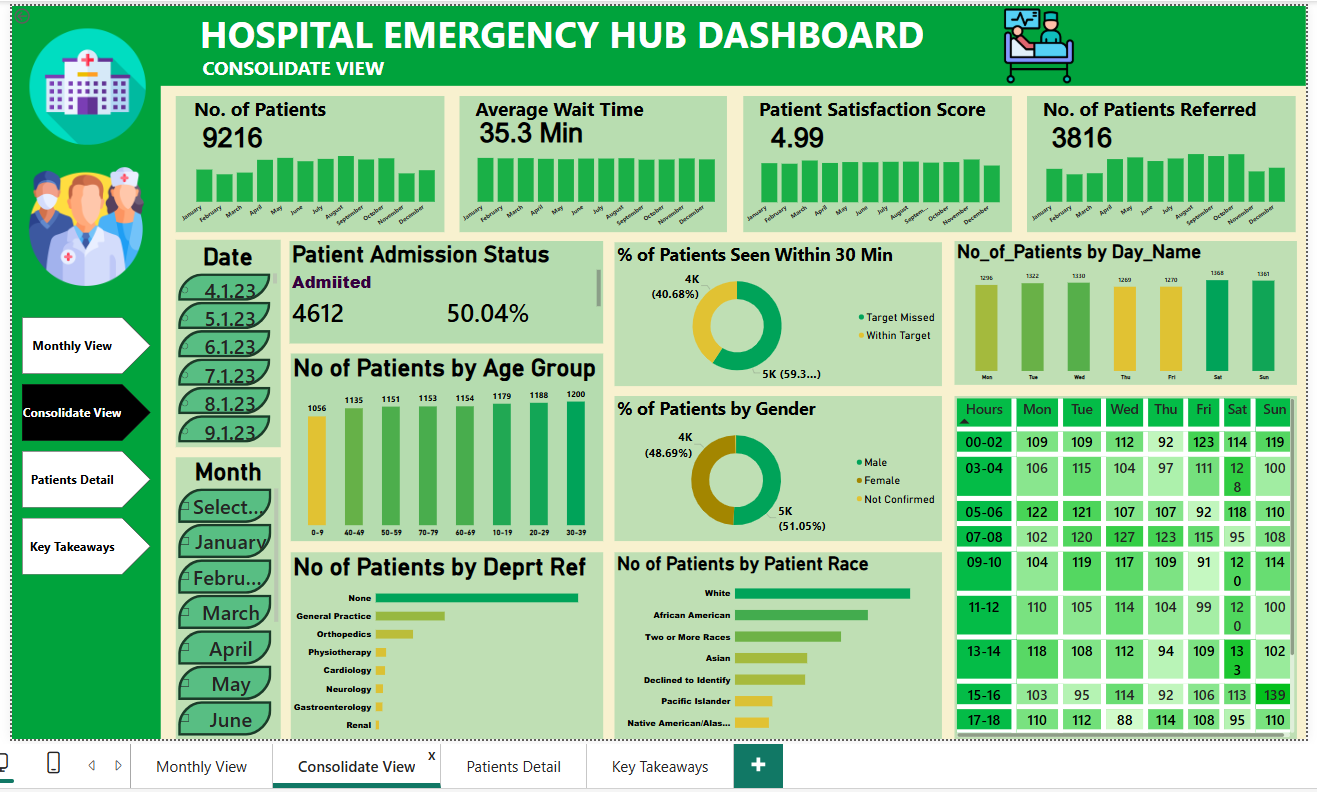

What the dashboard file says about the page in this screenshot:
{"tool":"powerbi","page":{"name":"Consolidate View","canvas":[2555,1448],"ordinal":1},"visuals":[{"type":"multiRowCard","title":"Patient Admission Status","fields":{"Values":["Hospitals Data.Admission_Status","Hospitals Data.No_of_Patients","Divide(Hospitals Data.No_of_Patients, ScopedEval(Hospitals Data.No_of_Patients, []))"]},"box":[547.8,463.9,619.4,202.3],"z":0},{"type":"shape","box":[0,0,293.6,1448.5],"z":1000},{"type":"shape","box":[0,0,2554,157.9],"z":2000},{"type":"textbox","box":[310.9,0,1549.7,118.4],"z":3000},{"type":"shape","box":[323.3,177.7,530.5,269],"z":4000},{"type":"card","fields":{"Values":["Hospitals Data.No_of_Patients"]},"box":[323.3,222.1,224.6,66.6],"z":5000},{"type":"listSlicer","fields":{"Values":["Date_Table.Date"]},"box":[323.3,461.4,207.3,409.6],"z":6000},{"type":"textbox","box":[328.2,177.7,370.1,69.1],"z":7000},{"type":"columnChart","fields":{"Y":["Hospitals Data.No_of_Patients"],"Category":["Date_Table.Month"]},"box":[328.2,276.4,528.1,170.3],"z":8000},{"type":"shape","box":[883.4,177.7,528.1,269],"z":9000},{"type":"textbox","box":[883.4,177.7,370.1,69.1],"z":10000},{"type":"columnChart","fields":{"Category":["Date_Table.Month"],"Y":["Avg(Hospitals Data.Patient_Waittime)"]},"box":[883.4,276.4,525.6,170.3],"z":11000},{"type":"shape","box":[1443.6,177.7,530.5,269],"z":12000},{"type":"textbox","box":[1443.6,177.7,530.5,69.1],"z":13000},{"type":"columnChart","fields":{"Y":["Hospitals Data.Satisfication_Score"],"Category":["Date_Table.Month"]},"box":[1443.6,278.8,528.1,167.8],"z":14000},{"type":"shape","box":[2003.7,177.7,530.5,269],"z":15000},{"type":"textbox","box":[2003.7,177.7,530.5,69.1],"z":16000},{"type":"columnChart","fields":{"Y":["Hospitals Data.No_of_Patience_referred"],"Category":["Date_Table.Month"]},"box":[2006.2,276.4,528.1,170.3],"z":17000},{"type":"card","fields":{"Values":["Hospitals Data.Aver_wait_time"]},"box":[883.4,214.7,283.8,64.2],"z":18000},{"type":"card","fields":{"Values":["Hospitals Data.Satisfication_Score"]},"box":[1443.4,210,214.7,93],"z":19000},{"type":"card","fields":{"Values":["Hospitals Data.No_of_Patience_referred"]},"box":[2003.7,222.1,217.2,66.6],"z":20000},{"type":"clusteredColumnChart","title":"No of Patients by Age Group","fields":{"Category":["Hospitals Data.Age_Group"],"Y":["Hospitals Data.No_of_Patients"]},"box":[550.3,686,616.9,370.1],"z":21000},{"type":"textbox","box":[355.3,96.2,387.4,61.7],"z":22000},{"type":"actionButton","box":[0,0,100,40],"z":23000},{"type":"clusteredBarChart","title":"No of Patients by Deprt Ref","fields":{"Category":["Hospitals Data.Department_Referral"],"Y":["Hospitals Data.No_of_Patients"]},"box":[550.3,1078.4,616.9,370.1],"z":24000},{"type":"donutChart","title":"% of Patients Seen Within 30 Min","fields":{"Category":["Hospitals Data.Waittime_Status"],"Y":["Hospitals Data.No_of_Patients"]},"box":[1189.4,466.4,646.5,283.8],"z":25000},{"type":"donutChart","title":"% of Patients by Gender","fields":{"Category":["Hospitals Data.Patient_Gender"],"Y":["Hospitals Data.No_of_Patients"]},"box":[1189.4,769.9,646.5,286.2],"z":26000},{"type":"clusteredBarChart","title":"No of Patients by Patient Race","fields":{"Category":["Hospitals Data.Patient_Race"],"Y":["Hospitals Data.No_of_Patients"]},"box":[1189.4,1078.4,646.5,370.1],"z":27000},{"type":"pivotTable","fields":{"Rows":["Hospitals Data.Waittime_Interval"],"Columns":["Date_Table.Day_Name"],"Values":["Hospitals Data.No_of_Patients"]},"box":[1860.6,769.9,676.1,678.6],"z":28000},{"type":"columnChart","fields":{"Category":["Date_Table.Day_Name"],"Y":["Hospitals Data.No_of_Patients"]},"box":[1860.6,463.9,676.1,283.8],"z":29000},{"type":"image","box":[0,39.5,298.6,239.4],"z":30000},{"type":"listSlicer","fields":{"Values":["Date_Table.Month"]},"box":[323.3,890.8,207.3,557.7],"z":31000},{"type":"pageNavigator","box":[19.7,614.4,254.2,510.8],"z":32000},{"type":"image","box":[1887.7,0,278.8,157.9],"z":33000},{"type":"image","box":[0,313.4,293.6,244.3],"z":34000}]}

Visuals, with their boxes on the page's 2555x1448 design canvas (x1, y1, x2, y2). These are canvas units, not pixel positions in the 1317x792 screenshot, which may show the page scaled, cropped or inside an application window:
"Patient Admission Status" multiRowCard: (left=548, top=464, right=1167, bottom=666)
shape: (left=0, top=0, right=294, bottom=1448)
shape: (left=0, top=0, right=2554, bottom=158)
textbox: (left=311, top=0, right=1861, bottom=118)
shape: (left=323, top=178, right=854, bottom=447)
card - Hospitals Data.No_of_Patients: (left=323, top=222, right=548, bottom=289)
listSlicer - Date_Table.Date: (left=323, top=461, right=531, bottom=871)
textbox: (left=328, top=178, right=698, bottom=247)
columnChart - Hospitals Data.No_of_Patients x Date_Table.Month: (left=328, top=276, right=856, bottom=447)
shape: (left=883, top=178, right=1412, bottom=447)
textbox: (left=883, top=178, right=1254, bottom=247)
columnChart - Date_Table.Month x Avg(Hospitals Data.Patient_Waittime): (left=883, top=276, right=1409, bottom=447)
shape: (left=1444, top=178, right=1974, bottom=447)
textbox: (left=1444, top=178, right=1974, bottom=247)
columnChart - Hospitals Data.Satisfication_Score x Date_Table.Month: (left=1444, top=279, right=1972, bottom=447)
shape: (left=2004, top=178, right=2534, bottom=447)
textbox: (left=2004, top=178, right=2534, bottom=247)
columnChart - Hospitals Data.No_of_Patience_referred x Date_Table.Month: (left=2006, top=276, right=2534, bottom=447)
card - Hospitals Data.Aver_wait_time: (left=883, top=215, right=1167, bottom=279)
card - Hospitals Data.Satisfication_Score: (left=1443, top=210, right=1658, bottom=303)
card - Hospitals Data.No_of_Patience_referred: (left=2004, top=222, right=2221, bottom=289)
"No of Patients by Age Group" clusteredColumnChart: (left=550, top=686, right=1167, bottom=1056)
textbox: (left=355, top=96, right=743, bottom=158)
actionButton: (left=0, top=0, right=100, bottom=40)
"No of Patients by Deprt Ref" clusteredBarChart: (left=550, top=1078, right=1167, bottom=1448)
"% of Patients Seen Within 30 Min" donutChart: (left=1189, top=466, right=1836, bottom=750)
"% of Patients by Gender" donutChart: (left=1189, top=770, right=1836, bottom=1056)
"No of Patients by Patient Race" clusteredBarChart: (left=1189, top=1078, right=1836, bottom=1448)
pivotTable - Hospitals Data.Waittime_Interval x Date_Table.Day_Name: (left=1861, top=770, right=2537, bottom=1448)
columnChart - Date_Table.Day_Name x Hospitals Data.No_of_Patients: (left=1861, top=464, right=2537, bottom=748)
image: (left=0, top=40, right=299, bottom=279)
listSlicer - Date_Table.Month: (left=323, top=891, right=531, bottom=1448)
pageNavigator: (left=20, top=614, right=274, bottom=1125)
image: (left=1888, top=0, right=2166, bottom=158)
image: (left=0, top=313, right=294, bottom=558)
